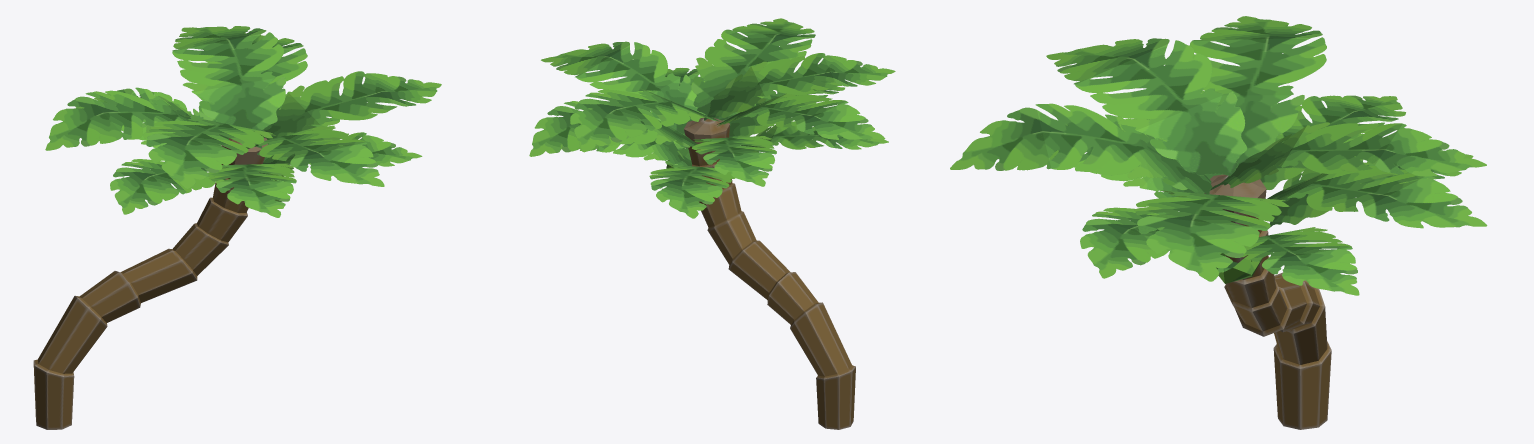
Rendered from palm_tree01.FBX.
The picture shows the model from 3 angles, left to right: view 1: azimuth 30°, elevation 25°; view 2: azimuth 150°, elevation 25°; view 3: azimuth 270°, elevation 25°; orthographic projection. The views are drawn at different scales.
Parts seen in each view (by area): view 1: Object010; view 2: Object010; view 3: Object010.
Part boxes in pixels (left/top/right/bottom): Object010: left=33, top=26, right=441, bottom=429; Object010: left=529, top=18, right=895, bottom=429; Object010: left=950, top=16, right=1487, bottom=429.
Size of the model in its own units: 733 by 564 by 726.
2 materials, 2 textured.
